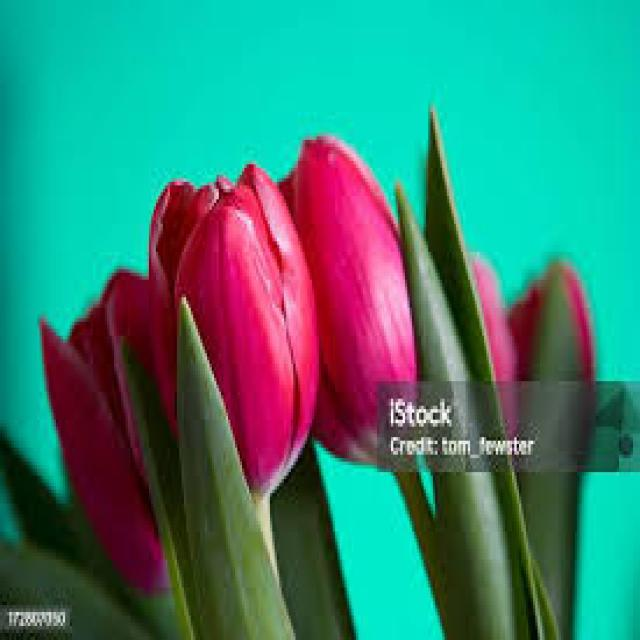Unbloomed: (121, 136, 321, 535), (293, 90, 431, 499)
